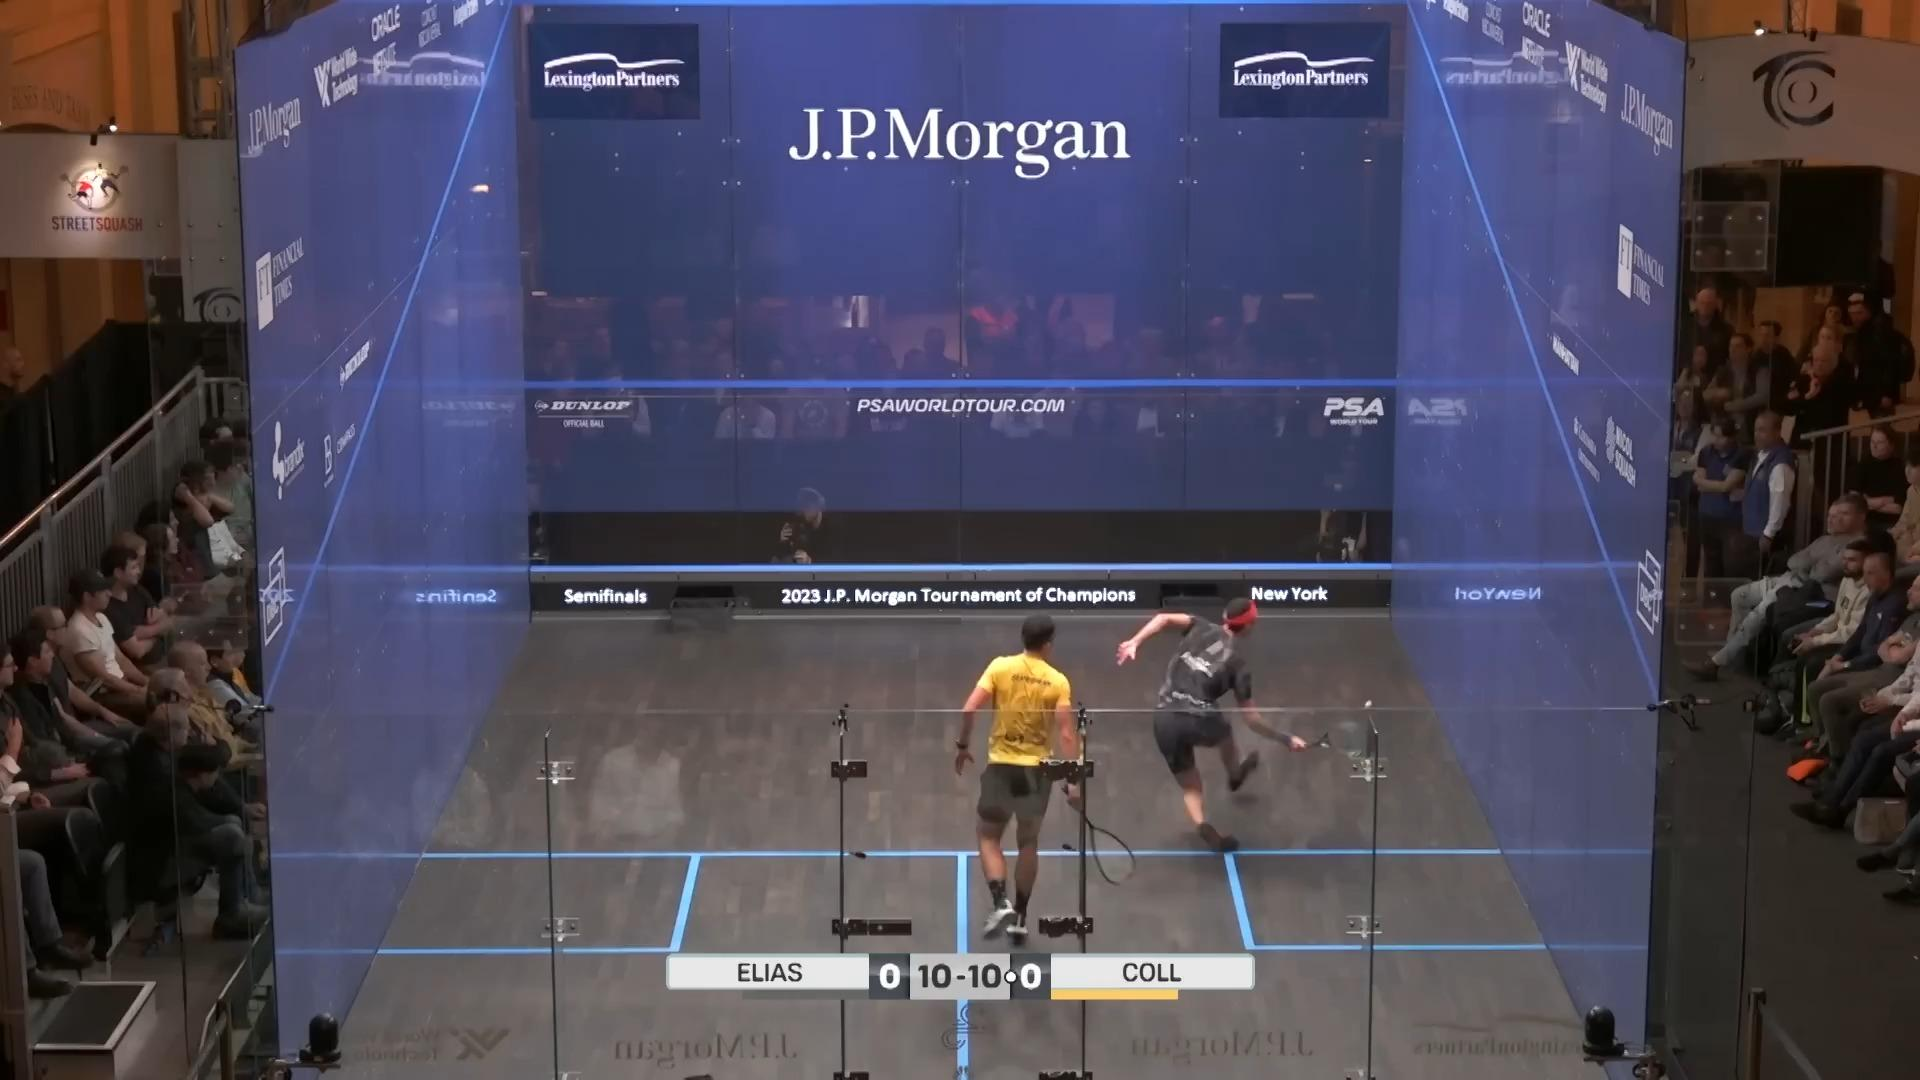Racket: (1068, 803, 1146, 885), (1284, 711, 1385, 762)
